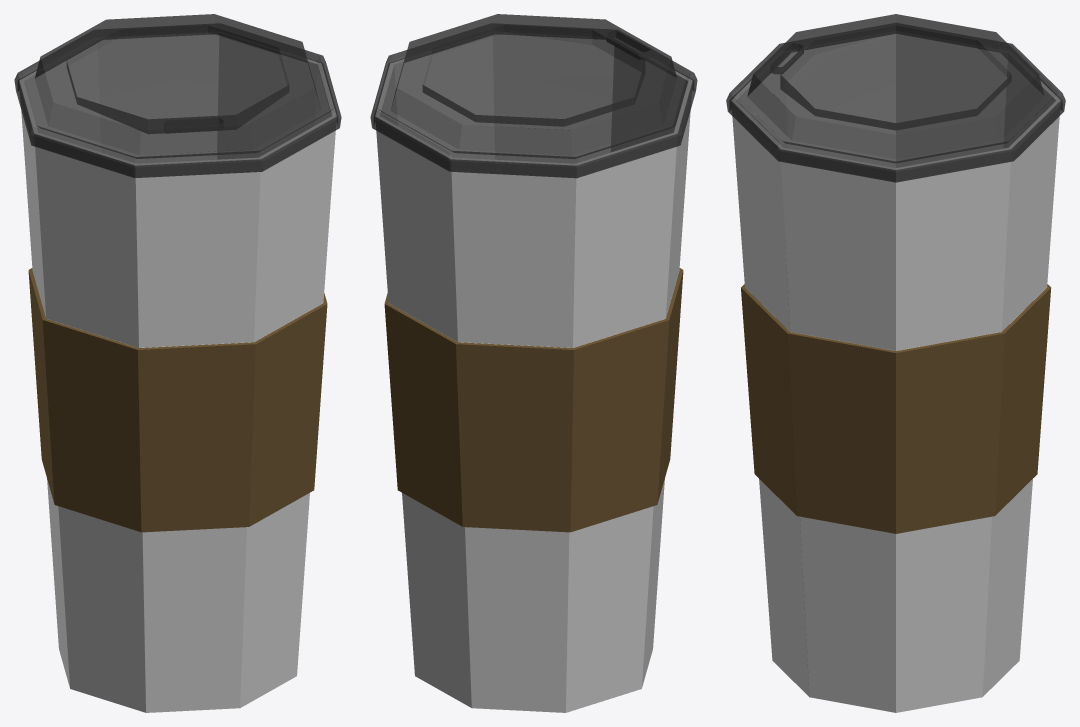
File: paper_cup_ready_exportprep.gltf
3 views of the same model, side by side, from view 1: azimuth 30°, elevation 25°; view 2: azimuth 150°, elevation 25°; view 3: azimuth 270°, elevation 25° (orthographic).
Visible parts, largest first — view 1: PaperCup_Ready; view 2: PaperCup_Ready; view 3: PaperCup_Ready.
Boxes of the visible parts, x1=… form: PaperCup_Ready: x1=14, y1=14, x2=341, y2=712; PaperCup_Ready: x1=370, y1=14, x2=697, y2=712; PaperCup_Ready: x1=726, y1=14, x2=1065, y2=712.
Bounding box in the file's own units: 0.0824 × 0.157 × 0.0824.
